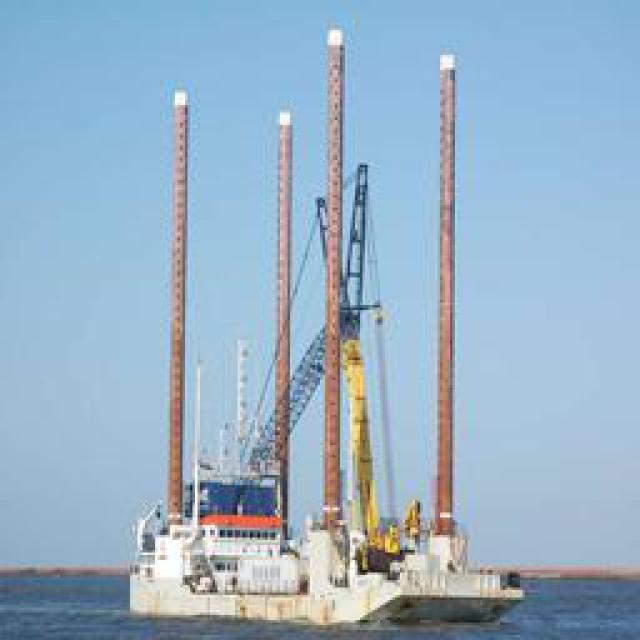Ship: (89, 462, 539, 639)
